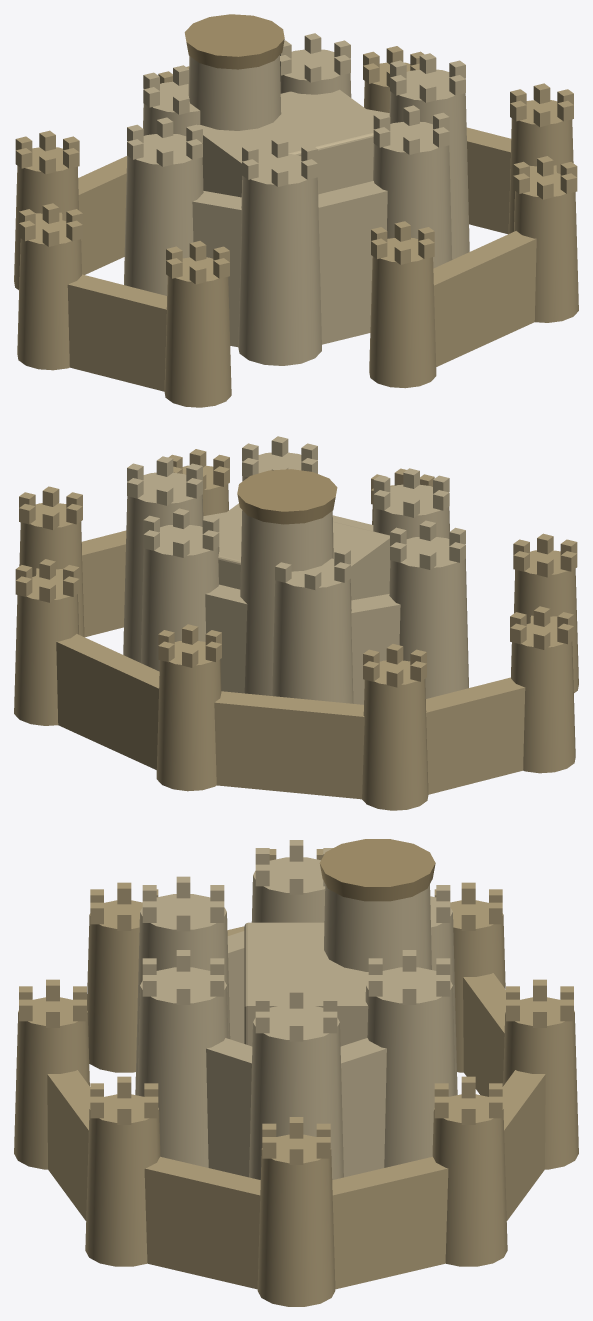
Rendered from castle.glb.
3 renders of one model, top to bottom at view 1: azimuth 30°, elevation 25°; view 2: azimuth 150°, elevation 25°; view 3: azimuth 270°, elevation 25°, orthographic. The views are drawn at different scales.
Visible parts, largest first — view 1: part_000; view 2: part_000; view 3: part_000.
Boxes of the visible parts, <box> form: part_000: <box>14,14,578,407</box>; part_000: <box>14,436,578,810</box>; part_000: <box>14,839,578,1306</box>.
Bounding box in the file's own units: 12.52 × 5.25 × 9.74.
